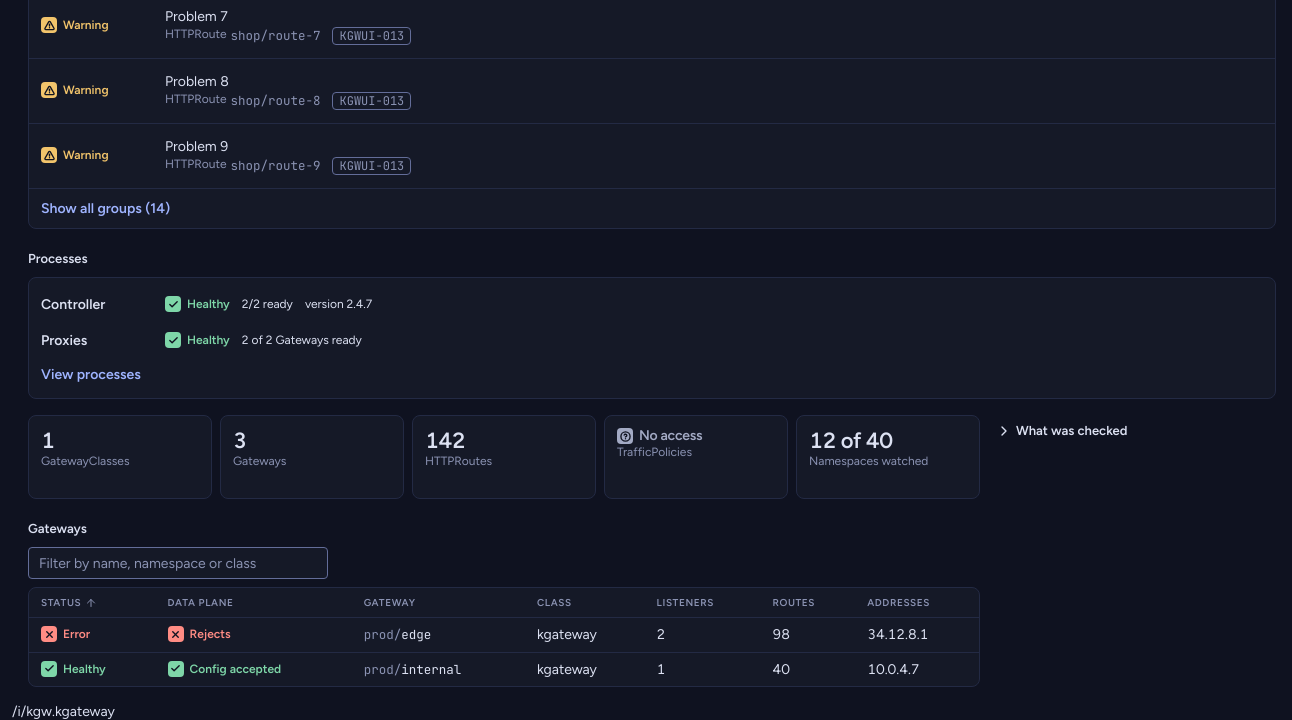
Test: 10 groups in rank order with Show all to the grouped findings page
(page scrolled)
Click the button "What was checked": (1062, 431) 990,419 -> 1134,443
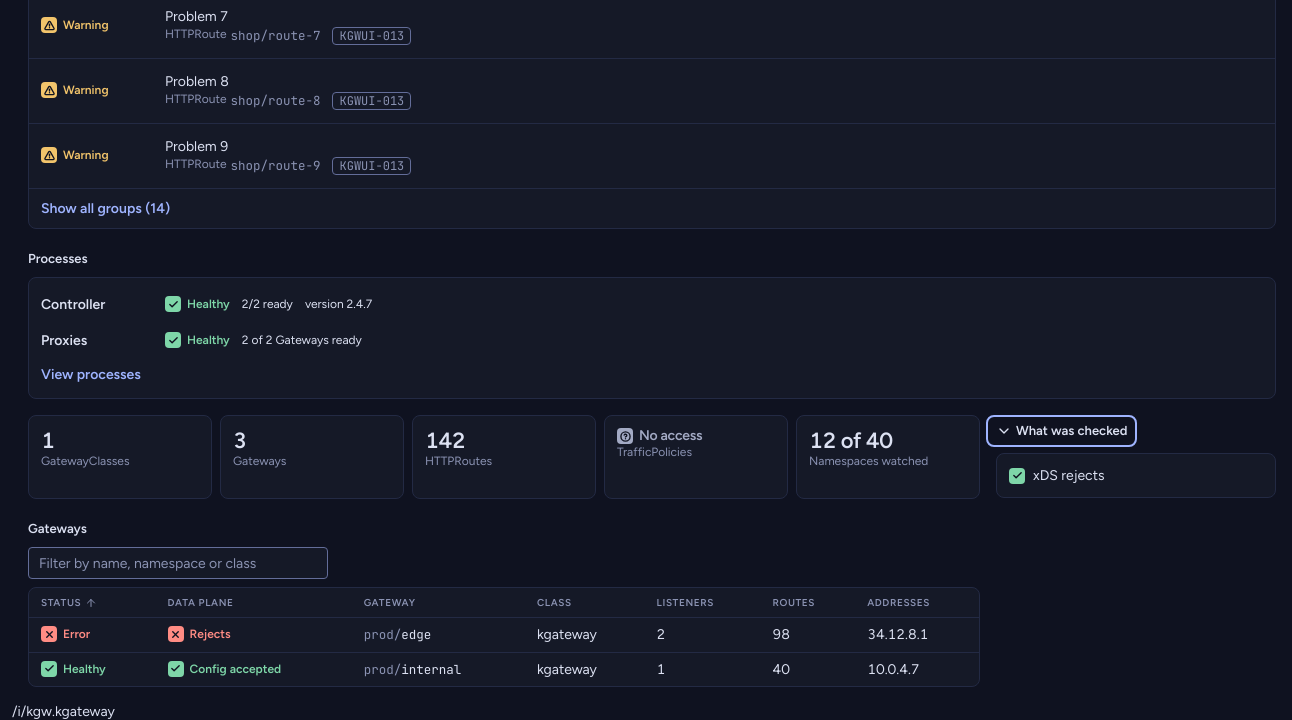
Result: the button "What was checked" is expanded at 990,419 -> 1134,443
Result: the list named "Checks" is shown at 996,453 -> 1276,498
